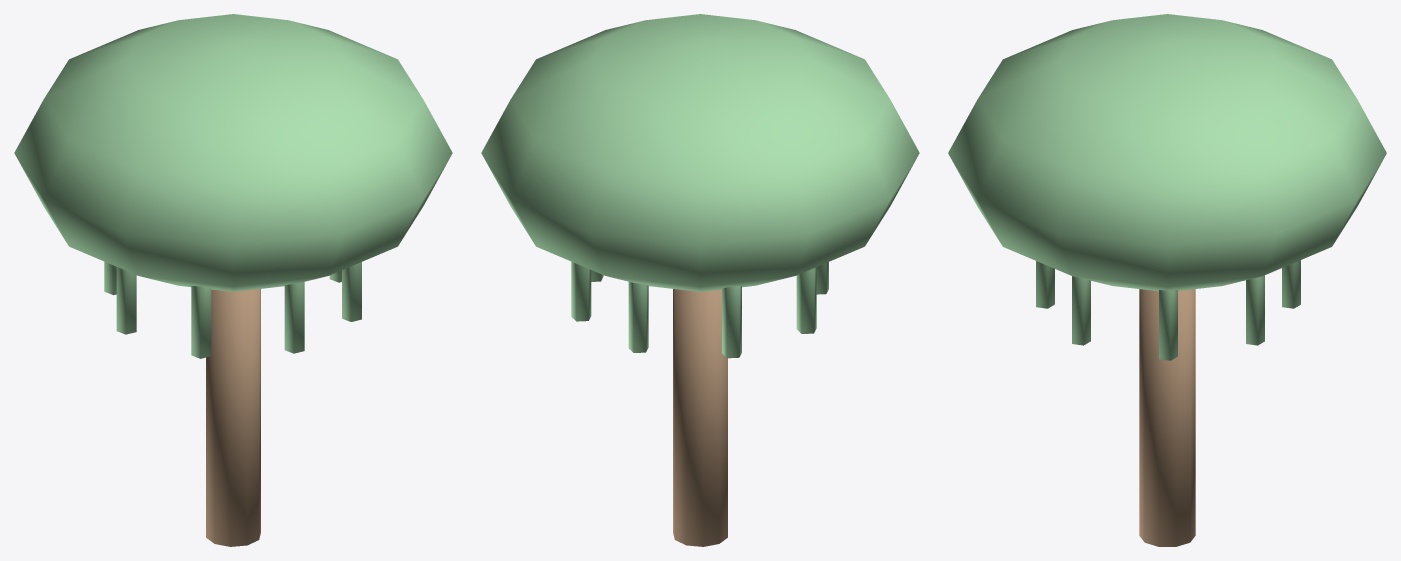
The model's file is cozy_tree_willow_A.glb.
3 renders of one model, left to right at view 1: azimuth 30°, elevation 25°; view 2: azimuth 150°, elevation 25°; view 3: azimuth 270°, elevation 25°, orthographic.
Parts seen in each view (by area): view 1: Canopy, Trunk, Hang5, Hang6, Hang4, Hang7; view 2: Canopy, Trunk, Hang2, Hang3, Hang4, Hang1; view 3: Canopy, Trunk, Hang0, Hang1, Hang7, Hang2, Hang6.
Part boxes in pixels (x1,y1,x2,y2): Canopy: (14, 14, 452, 291); Trunk: (206, 289, 260, 546); Hang5: (191, 285, 211, 358); Hang6: (284, 282, 304, 353); Hang4: (116, 267, 136, 334); Hang7: (342, 262, 361, 321); Canopy: (481, 14, 919, 291); Trunk: (673, 289, 727, 546); Hang2: (628, 282, 648, 352); Hang3: (722, 286, 741, 358); Hang4: (796, 267, 816, 333); Hang1: (571, 261, 591, 321); Canopy: (948, 14, 1386, 291); Trunk: (1139, 289, 1195, 546); Hang0: (1159, 290, 1177, 360); Hang1: (1246, 275, 1264, 345); Hang7: (1072, 276, 1090, 345); Hang2: (1282, 260, 1300, 308); Hang6: (1036, 261, 1054, 308).
Bounding box in the file's own units: 1.25 × 1.54 × 1.25.
